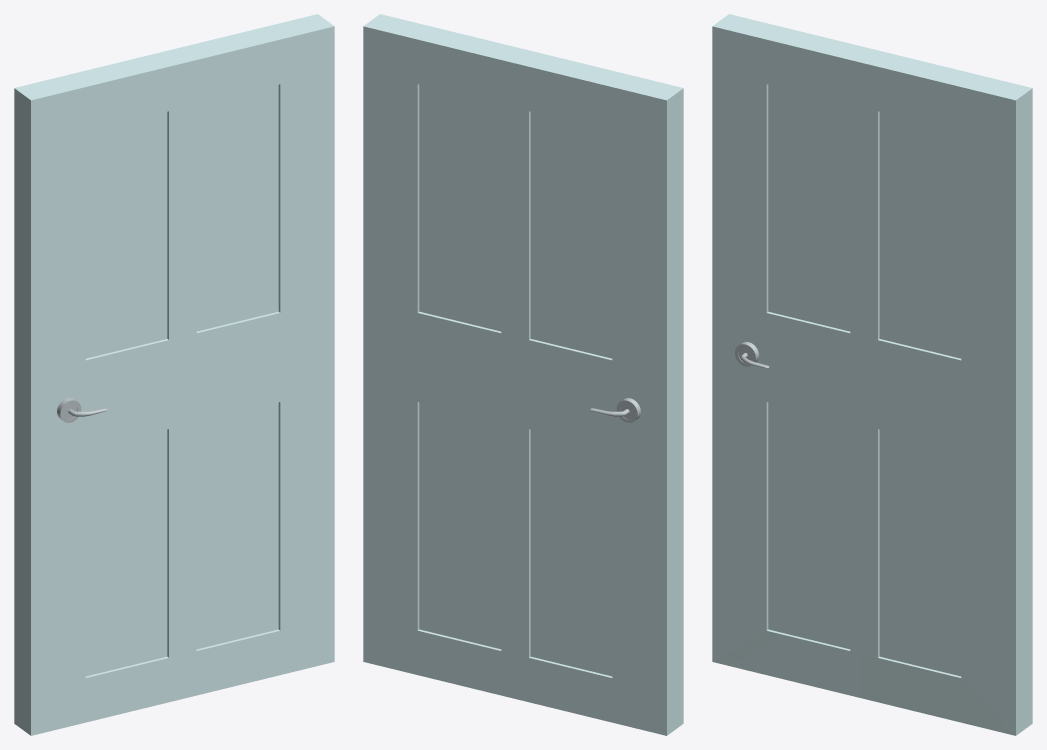
File: Door.fbx
3 views of the same model, side by side, from view 1: azimuth 30°, elevation 25°; view 2: azimuth 150°, elevation 25°; view 3: azimuth 330°, elevation 25° (orthographic).
Visible parts, largest first — view 1: pCube2; view 2: pCube2; view 3: pCube2.
Part boxes in pixels (x1,y1,x2,y2): pCube2: (14,14,334,735); pCube2: (363,14,683,735); pCube2: (712,14,1032,735).
Size of the model in its own units: 1 by 2 by 0.2233.
Materials: 1 (1 with a texture image).
